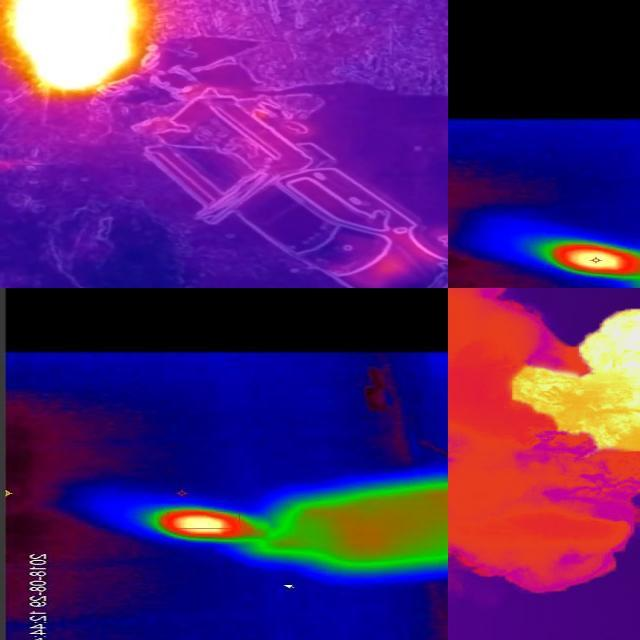fire: (491, 299, 640, 513), (1, 1, 157, 99), (531, 240, 640, 284), (120, 510, 264, 542)
